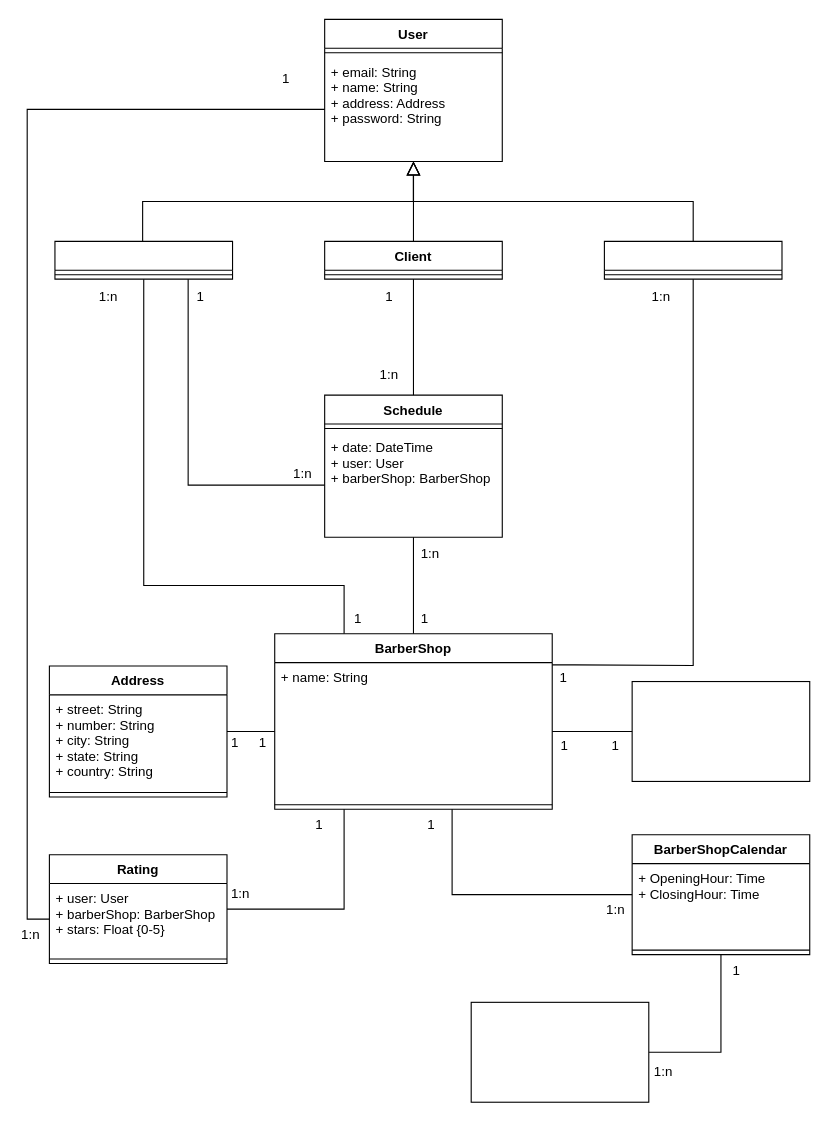
This 829x1122 diagram has some shape labels left out. Each missing label, with the centre of its shape:
Barber: the point at 143,259
EDay:Enum sunday = 0 monday = 1 ... saturday = 6: the point at 559,1051
EStatusBarberShop:Enum closed = 0 opened = 1: the point at 720,730
Manager: the point at 692,259
